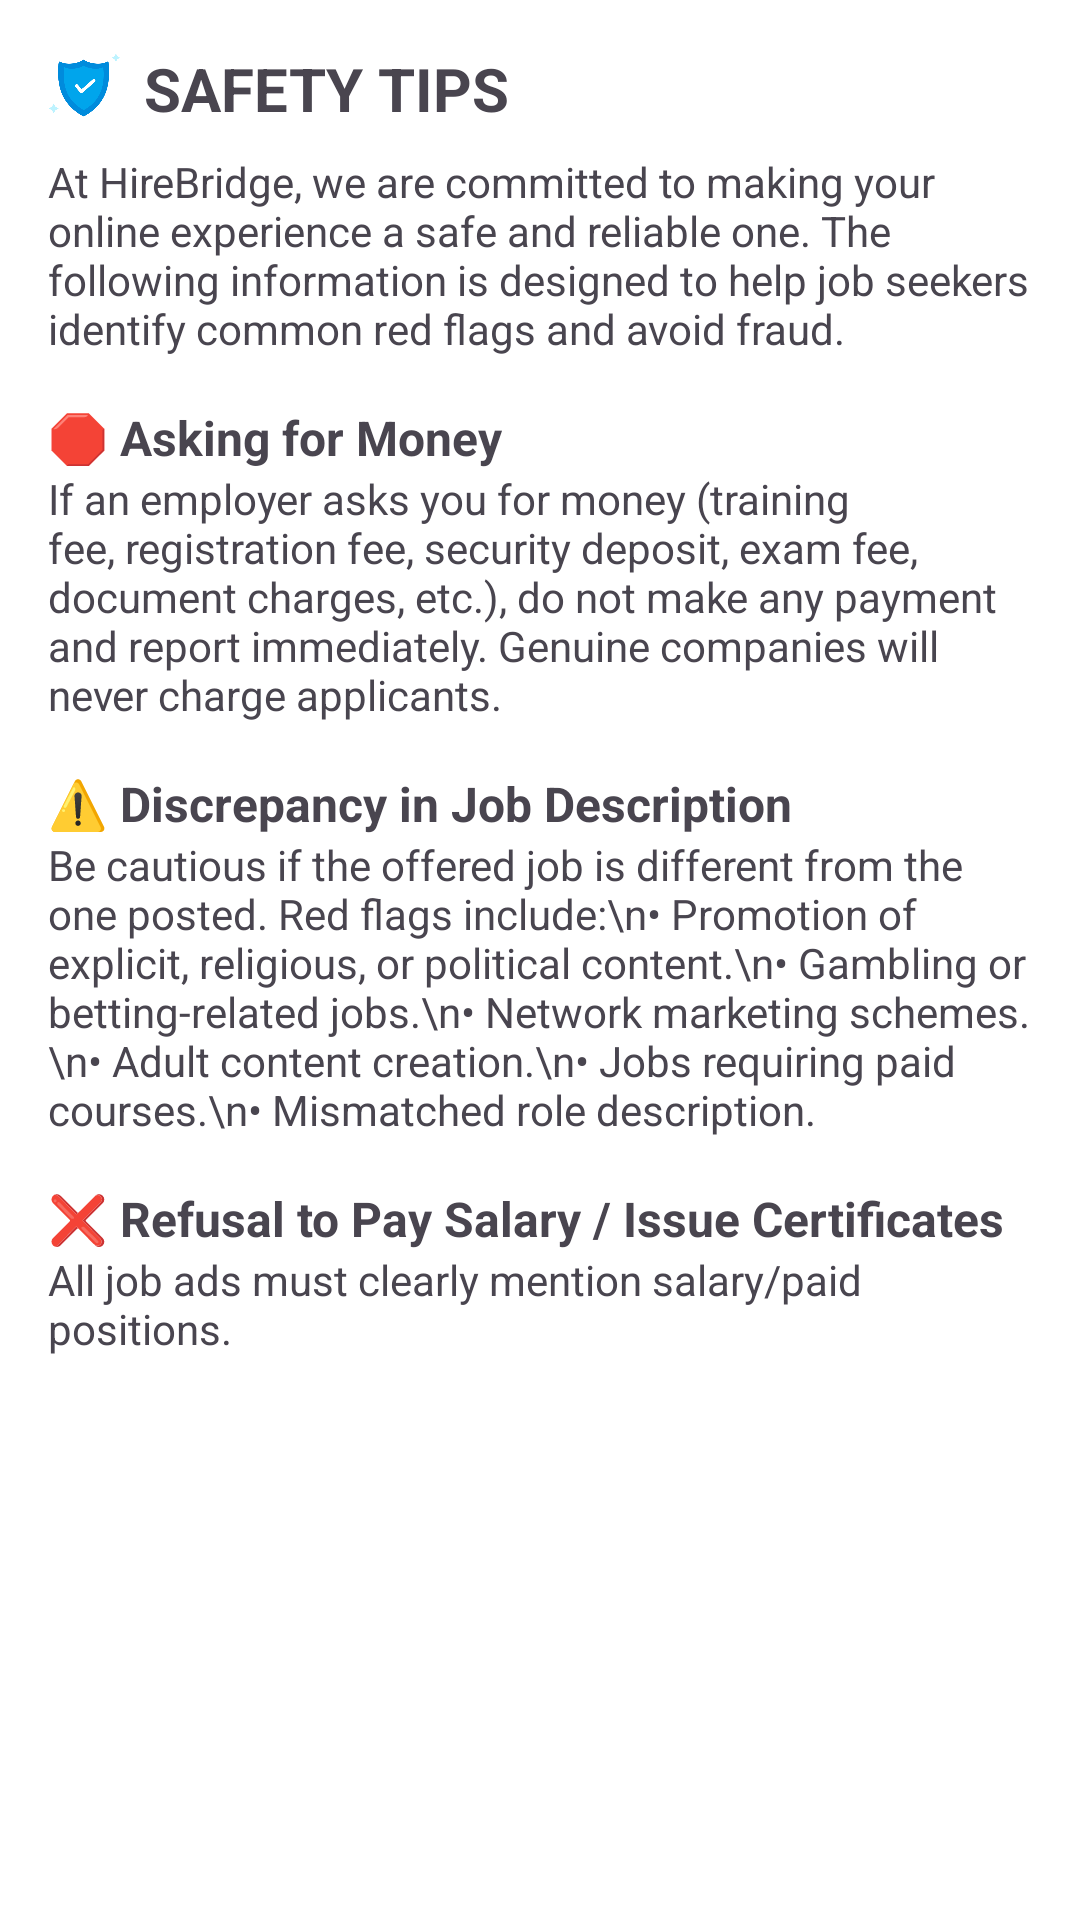

Named icons in this screenshot (1080 × 1920) and their centers, (x=x, y=y):
shield: (x=84, y=85)
